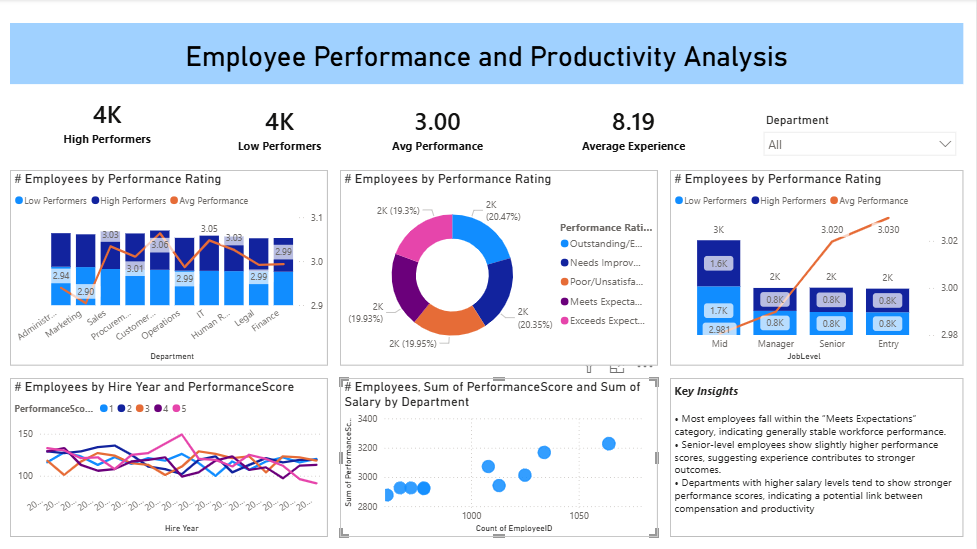

What the dashboard file says about the page in this screenshot:
{"tool":"powerbi","page":{"name":"Performance ","canvas":[1280,720],"ordinal":3},"visuals":[{"type":"scatterChart","title":"# Employees, Sum of PerformanceScore and Sum of Salary by Department","fields":{"X":["CountNonNull(FactEmployee.EmployeeID)"],"Y":["Sum(FactEmployee.PerformanceScore)"],"Size":["Sum(FactEmployee.Salary)"],"Category":["DimDepartment.Department"]},"box":[448,496,416,208],"z":0},{"type":"lineChart","title":"# Employees by Hire Year and PerformanceScore","fields":{"Y":["CountNonNull(FactEmployee.EmployeeID)"],"Category":["FactEmployee.Hire Year"],"Series":["FactEmployee.PerformanceScore"]},"box":[16,496,416,208],"z":1000},{"type":"lineStackedColumnComboChart","title":"# Employees by Performance Rating","fields":{"Category":["DimDepartment.Department"],"Y":["DimDepartment.Low Performers","DimDepartment.High Performers"],"Y2":["DimDepartment.Avg Performance"]},"box":[16,224,416,256],"z":2000},{"type":"cardVisual","fields":{"Data":["DimDepartment.High Performers"]},"box":[32,96,224,128],"z":3000},{"type":"card","fields":{"Values":["DimDepartment.Dynamic Title1"]},"box":[16,32,1248,80],"z":4000},{"type":"cardVisual","fields":{"Data":["DimDepartment.Low Performers"]},"box":[256,112,224,112],"z":5000},{"type":"cardVisual","fields":{"Data":["DimDepartment.Avg Performance"]},"box":[464,112,224,112],"z":6000},{"type":"cardVisual","fields":{"Data":["DimDepartment.Average Experience"]},"box":[720,112,224,112],"z":7000},{"type":"donutChart","title":"# Employees by Performance Rating","fields":{"Category":["FactEmployee.Performance Rating"],"Y":["DimDepartment.Total Employees"]},"box":[448,224,416,256],"z":8000},{"type":"lineStackedColumnComboChart","title":"# Employees by Performance Rating","fields":{"Y":["DimDepartment.Low Performers","DimDepartment.High Performers"],"Y2":["DimDepartment.Avg Performance"],"Category":["DimJobRole.JobLevel"]},"box":[880,224,384,256],"z":9000},{"type":"textbox","box":[880,496,384,208],"z":10000},{"type":"slicer","fields":{"Values":["DimJobRole.JobRole"]},"box":[992,144,272,64],"z":11000}]}

Visuals, with their boxes in screenshot pixels (x1, y1, x2, y2), scaled from the page's 1280x720 canvas onto the 977x549 screenshot:
"# Employees, Sum of PerformanceScore and Sum of Salary by Department" scatterChart: (342,378,659,537)
"# Employees by Hire Year and PerformanceScore" lineChart: (12,378,330,537)
"# Employees by Performance Rating" lineStackedColumnComboChart: (12,171,330,366)
cardVisual - DimDepartment.High Performers: (24,73,195,171)
card - DimDepartment.Dynamic Title1: (12,24,965,85)
cardVisual - DimDepartment.Low Performers: (195,85,366,171)
cardVisual - DimDepartment.Avg Performance: (354,85,525,171)
cardVisual - DimDepartment.Average Experience: (550,85,721,171)
"# Employees by Performance Rating" donutChart: (342,171,659,366)
"# Employees by Performance Rating" lineStackedColumnComboChart: (672,171,965,366)
textbox: (672,378,965,537)
slicer - DimJobRole.JobRole: (757,110,965,159)
